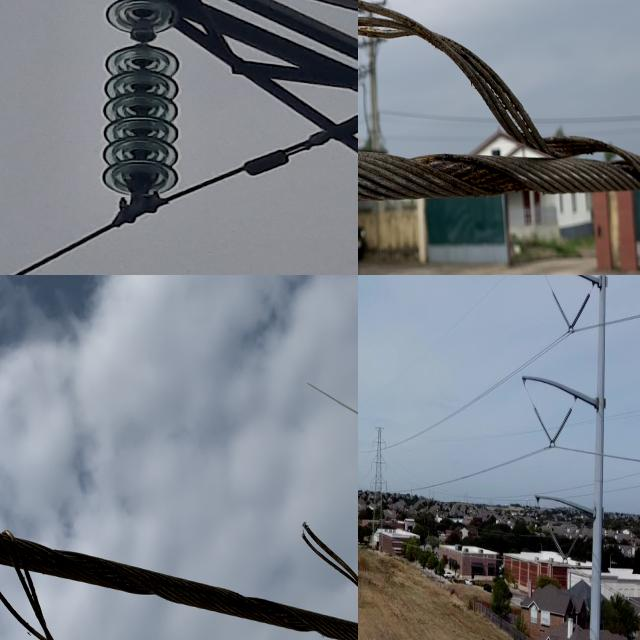杆塔: (368, 412, 393, 544)
正常电缆: (0, 126, 342, 275)
正常绝缘子: (90, 0, 180, 224), (561, 520, 587, 564), (545, 520, 569, 566), (551, 289, 574, 333), (550, 405, 574, 447), (568, 292, 592, 333), (532, 404, 554, 446)
电缆破损: (0, 470, 358, 640), (358, 0, 637, 191)
绝缘子破损: (129, 28, 158, 44)
